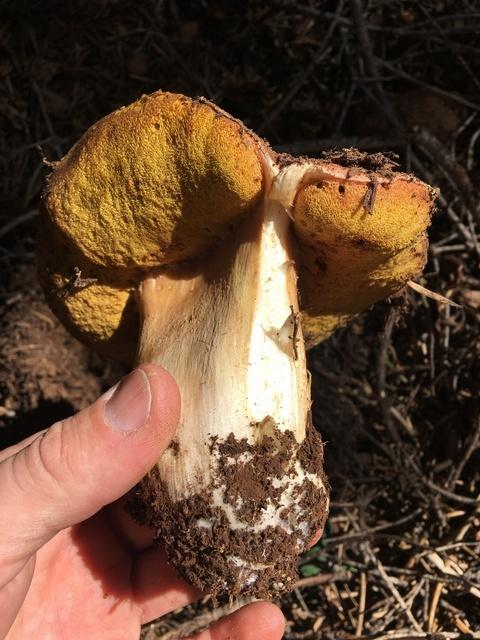Edible Mushroom: (34, 88, 440, 605)
